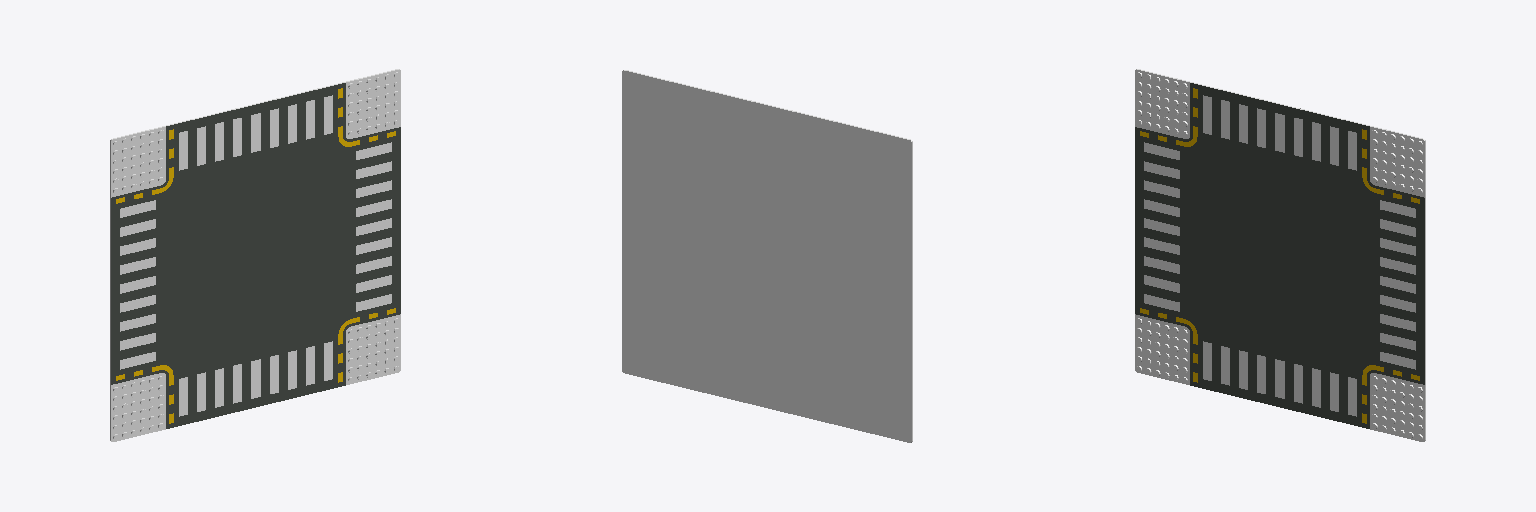
File: plytka_test.obj
The picture shows the model from 3 angles: view 1: azimuth 30°, elevation 25°; view 2: azimuth 150°, elevation 25°; view 3: azimuth 330°, elevation 25°; orthographic projection.
Parts seen in each view (by area): view 1: Piece000; view 2: Piece000; view 3: Piece000.
Part boxes in pixels (x1,y1,x2,y2): Piece000: (110,69,400,441); Piece000: (622,70,912,442); Piece000: (1135,69,1425,441).
Size of the model in its own units: 640 by 640 by 8.